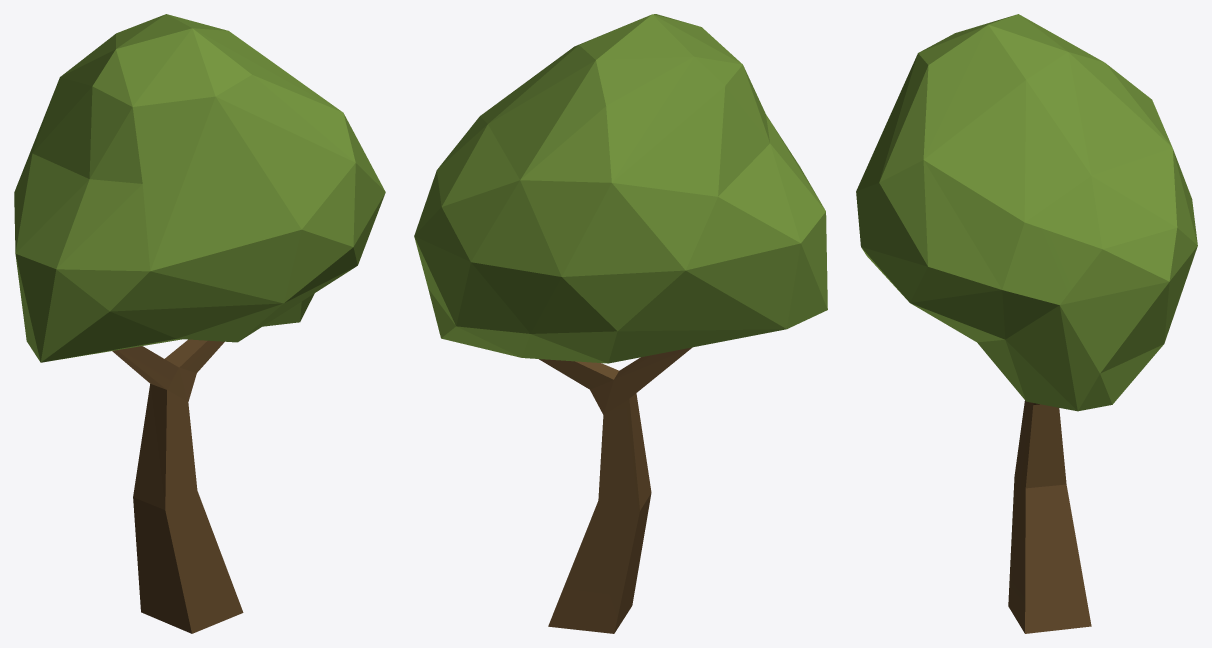
The model's file is Tree_14.fbx.
3 renders of one model, left to right at view 1: azimuth 30°, elevation 25°; view 2: azimuth 150°, elevation 25°; view 3: azimuth 270°, elevation 25°, orthographic. The views are drawn at different scales.
Visible parts, largest first — view 1: Tree_14; view 2: Tree_14; view 3: Tree_14.
Boxes of the visible parts, bbox=[...] form: Tree_14: bbox=[14, 14, 385, 633]; Tree_14: bbox=[414, 14, 827, 633]; Tree_14: bbox=[856, 14, 1197, 633].
Size of the model in its own units: 99.59 by 166 by 89.21.
